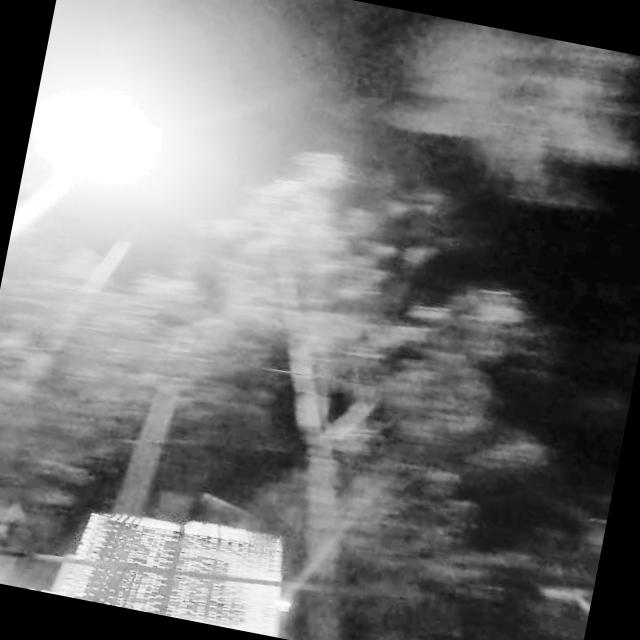Light: (22, 75, 210, 206)
